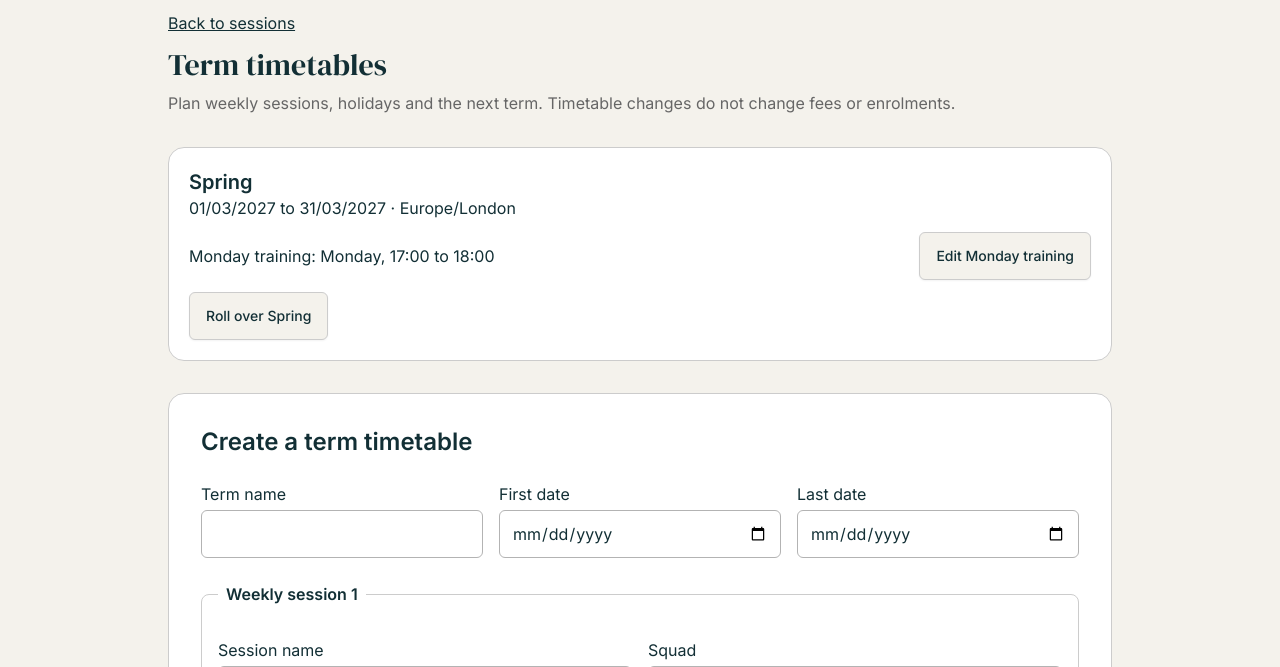
it: submits explicit future scope and reports preserved historical sessions
Click the button "Edit Monday training" at point(1005, 256), box [919, 232, 1091, 280]
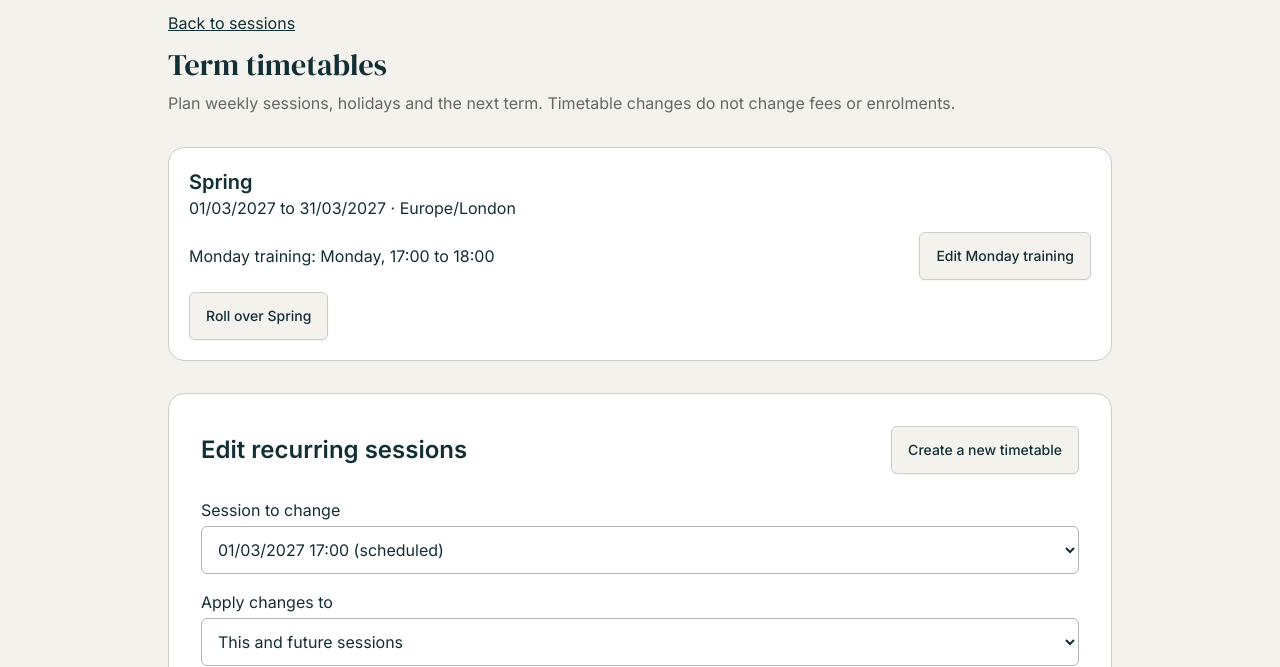
Select "01/03/2027 17:00 (scheduled)" in the dropdown labelled "Session to change" at point(640, 550), box [201, 526, 1079, 574]
(page scrolled)
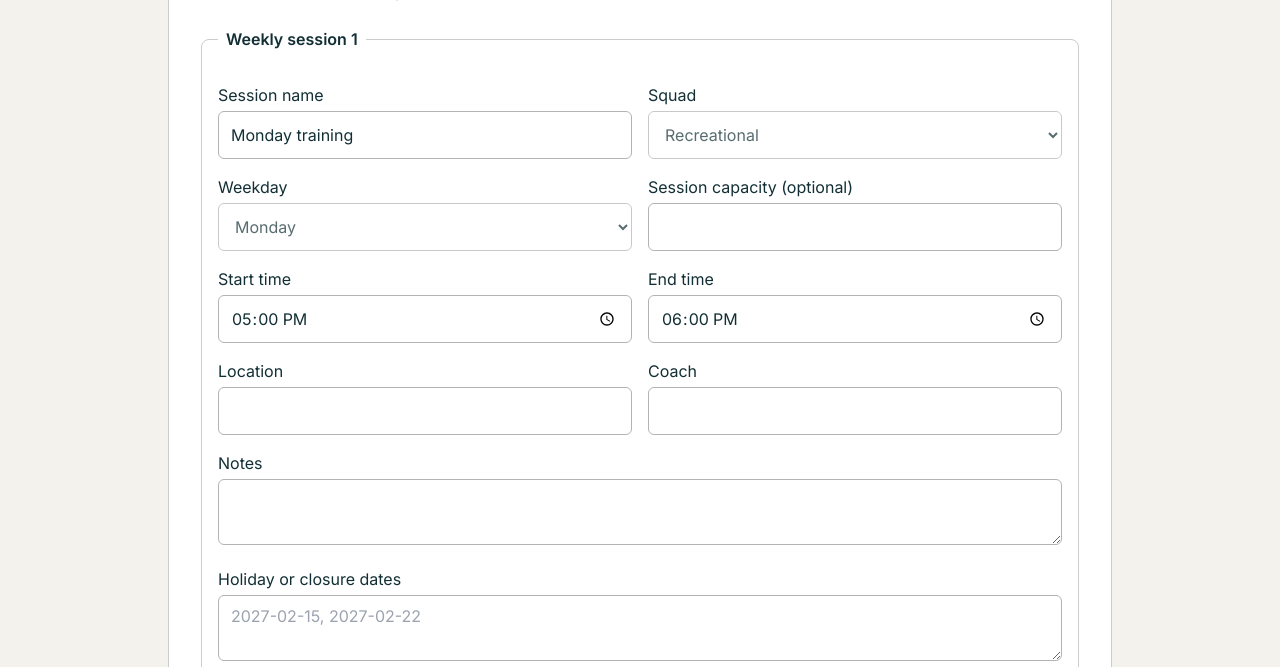
Replace the text in the time field labelled "Start time" with "16:30" at point(425, 319), box [218, 295, 632, 343]
(page scrolled)
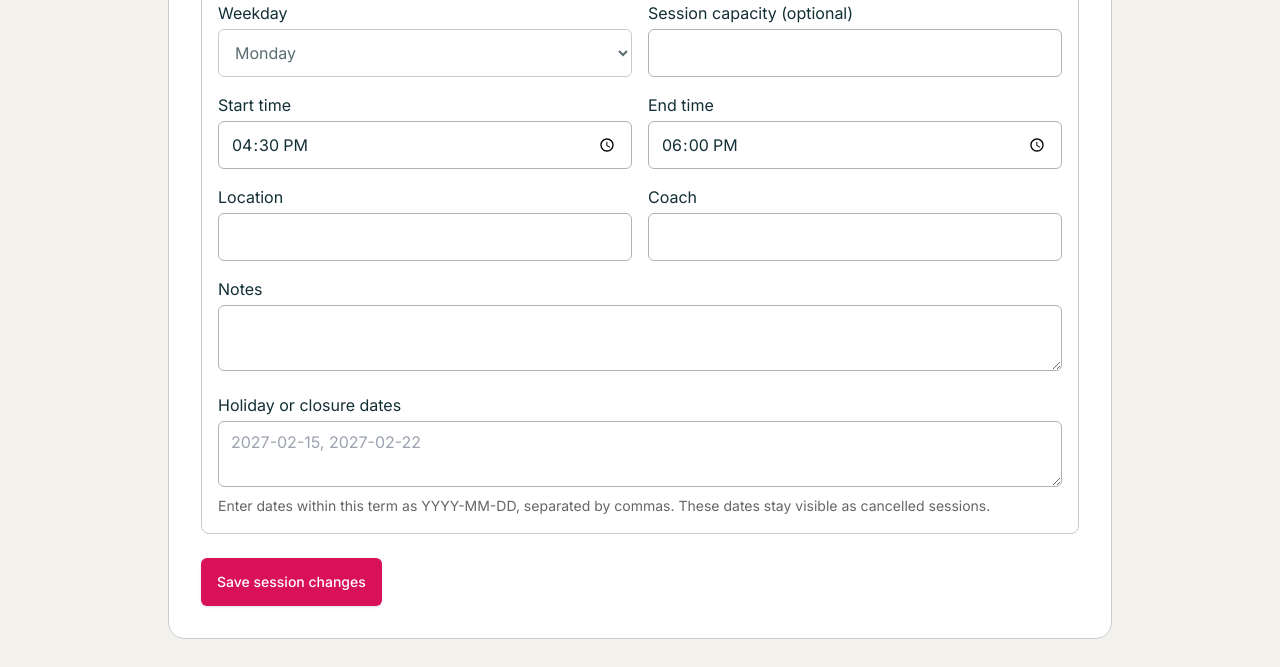
Click the button "Save session changes" at point(291, 582), box [201, 558, 382, 606]
(page scrolled)
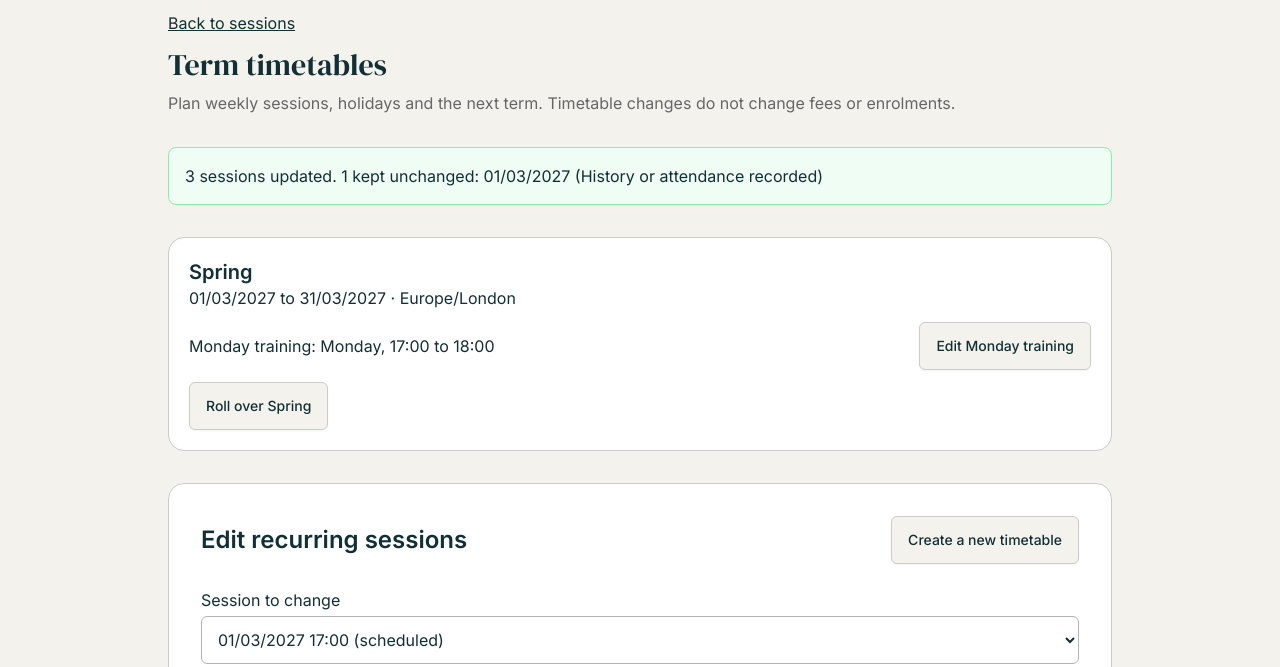
Result: the text "3 sessions updated. 1 kept unchanged" is shown at [185, 166, 823, 186]
